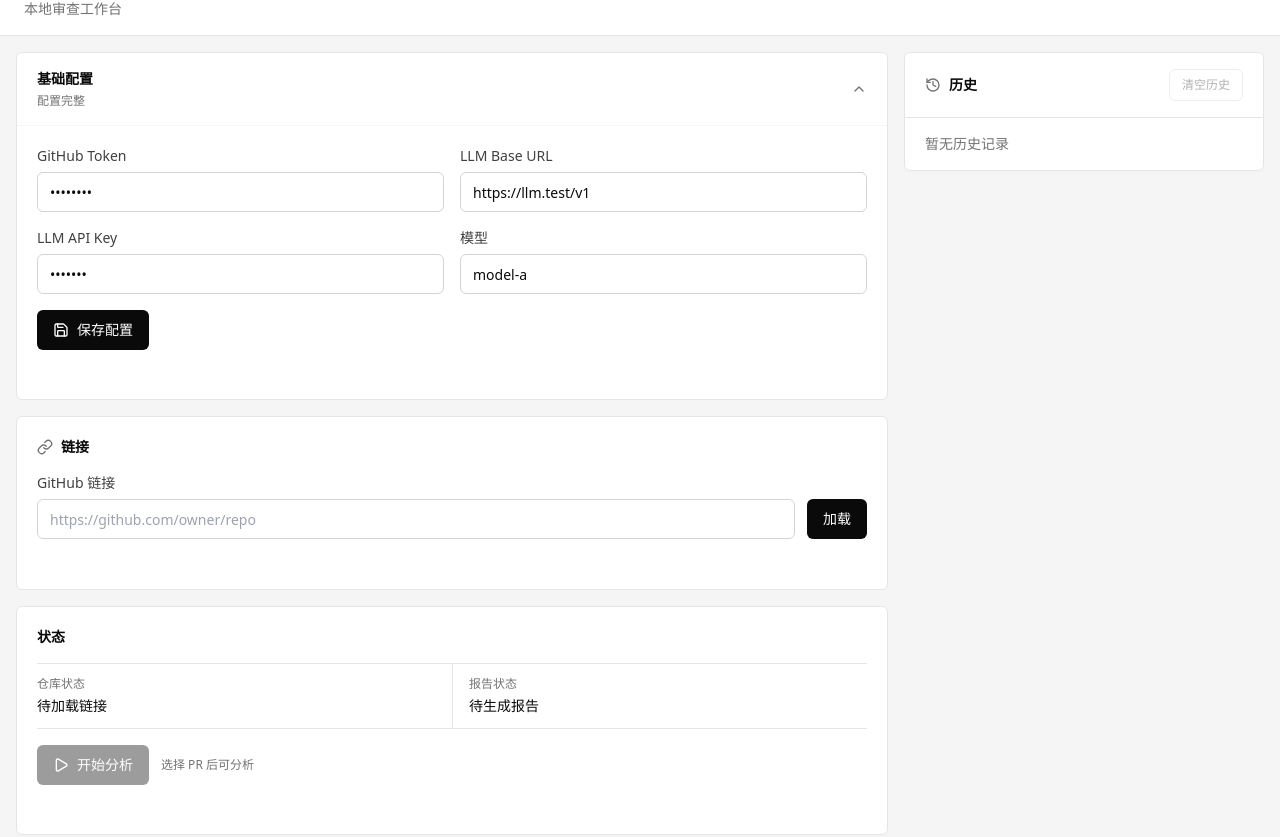
Test: happy path › loads a repository, selects a PR, analyzes it, renders the report, and saves history
In the field labelled "GitHub 链接": (416, 519) [37,499,795,539], type "https://github.com/octo/repo"
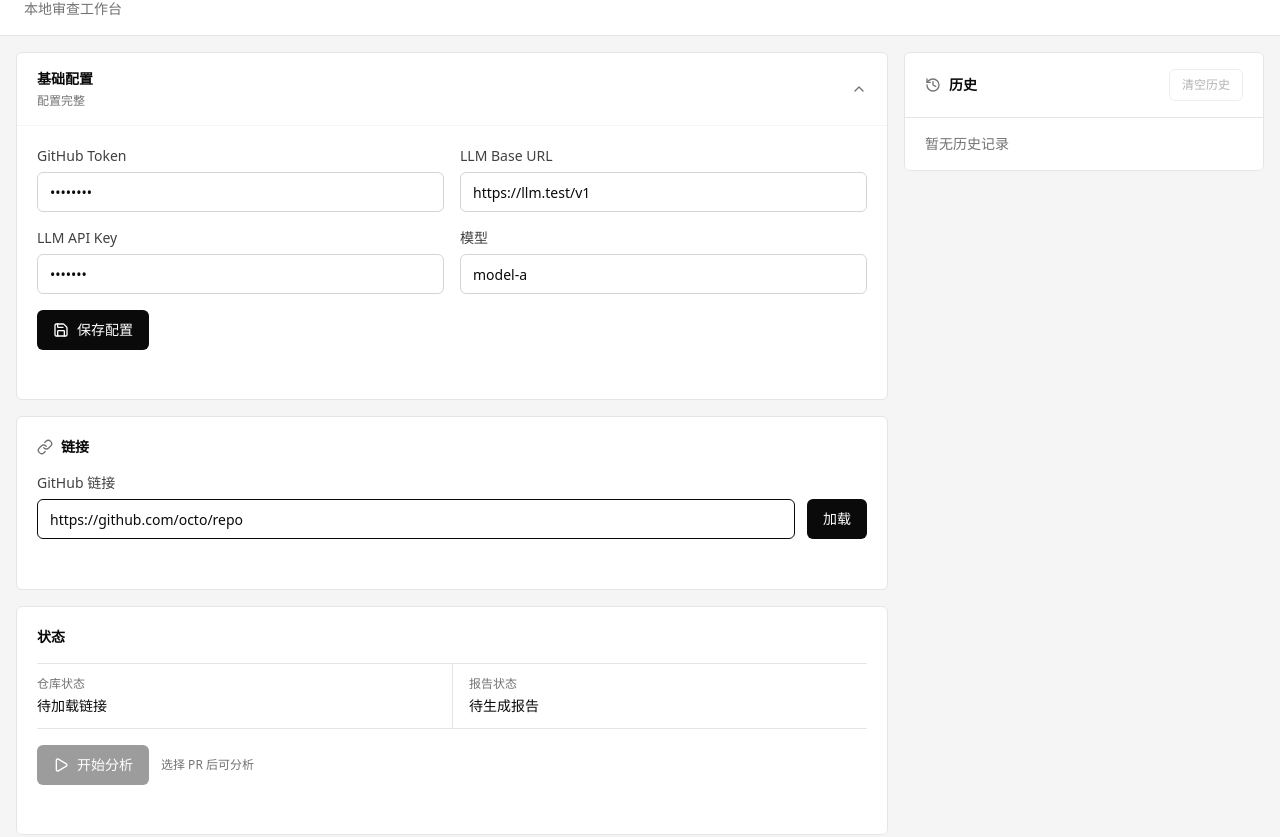
Click the button "加载": (837, 519) [807,499,867,539]
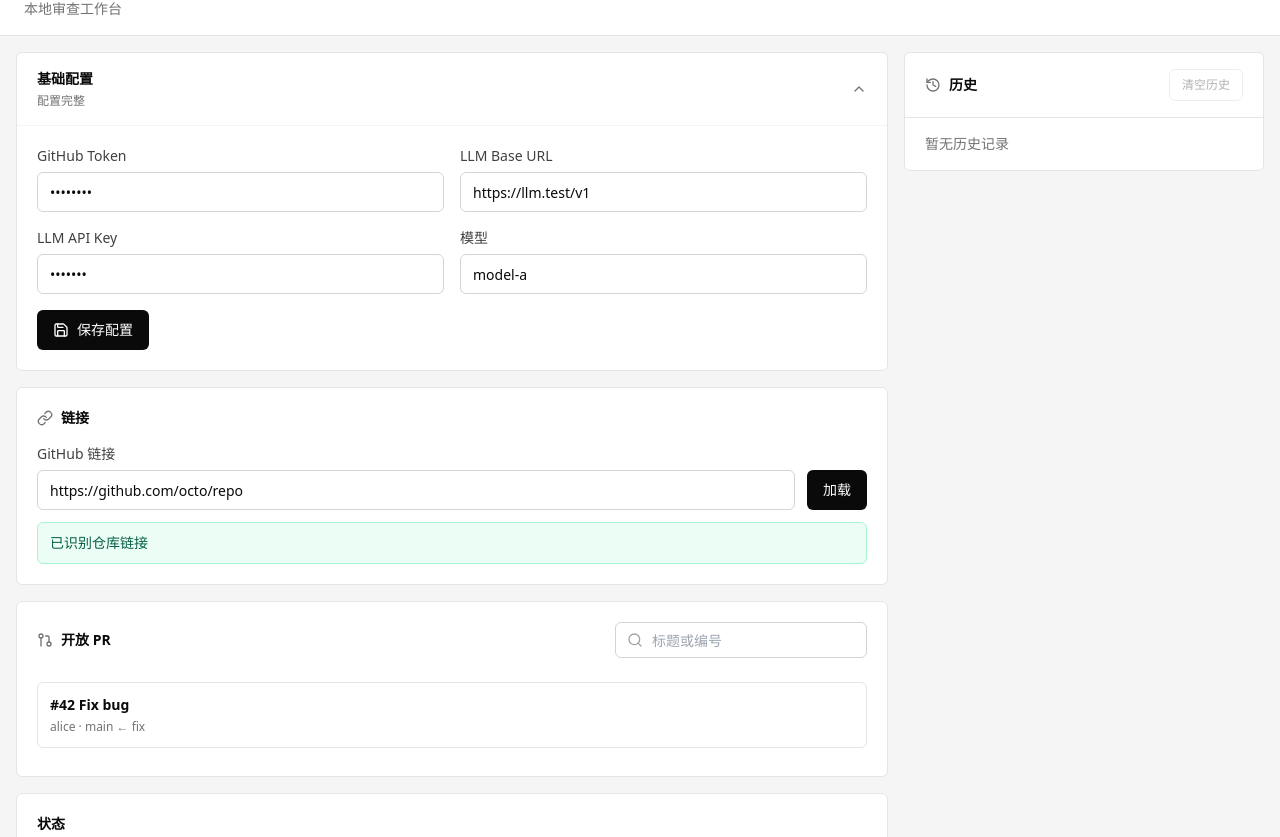
Click the button "#42 Fix bug alice · main ← fix": (90, 704) [37,682,867,748]
(page scrolled)
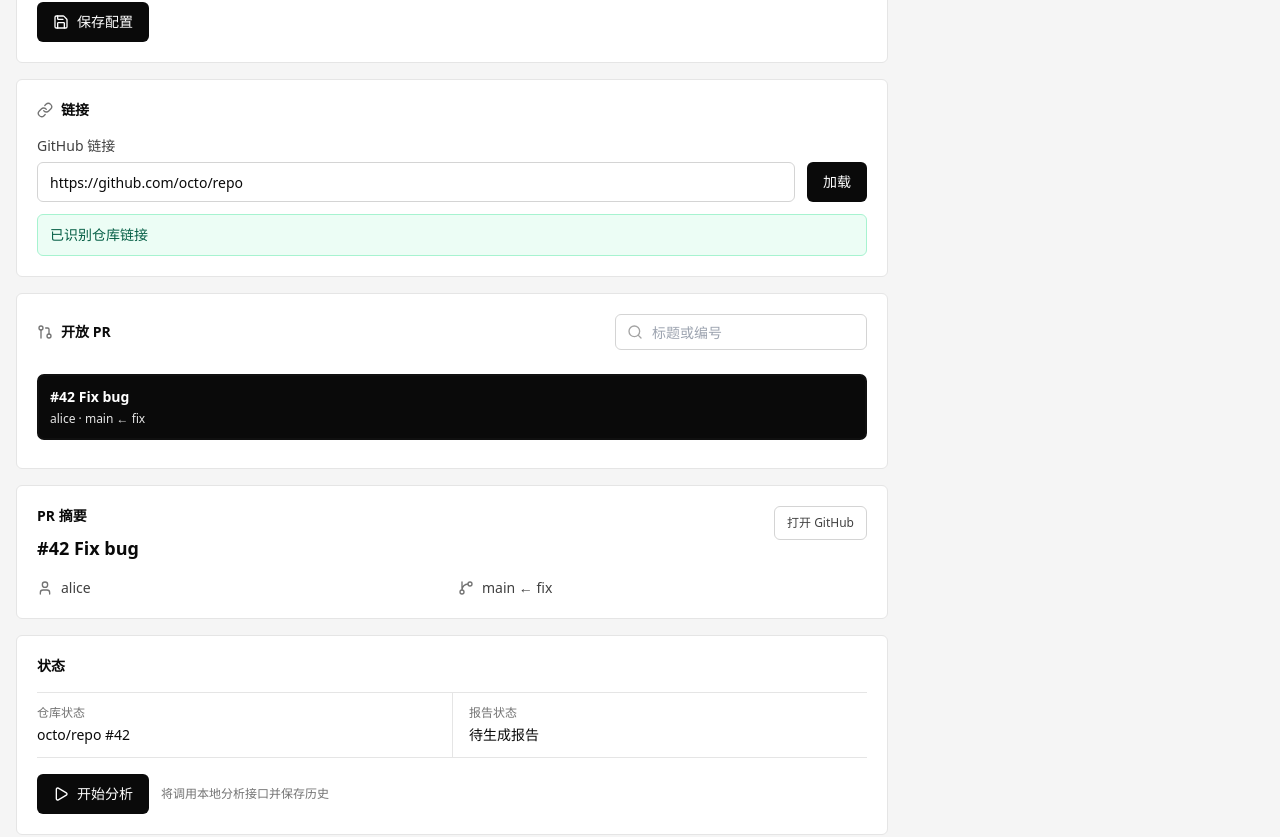
Check: the button "开始分析" is enabled
Click the button "开始分析": (93, 794) [37,774,149,814]
(page scrolled)
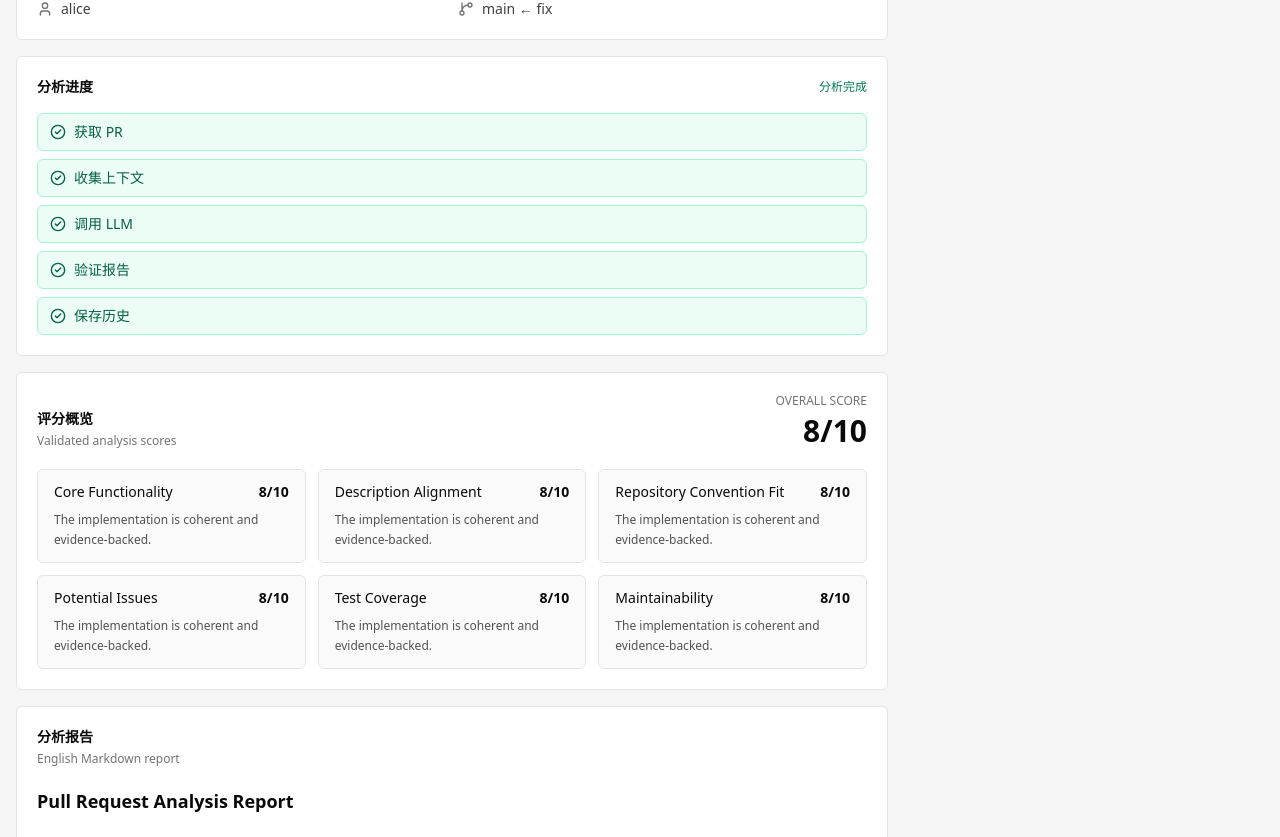
Check: the text "Overall Score" is shown, box [776,393,867,409]
